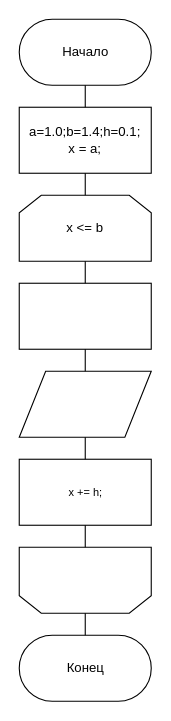
This 171x721 diagram has some shape labels left out. The box of each missing label's shape, as (x1, y1, x2, y2) in pixels:
"x="<<x<<"\ty="<<y: (18, 370, 151, 437)
y = log(x*x);: (18, 282, 151, 349)
